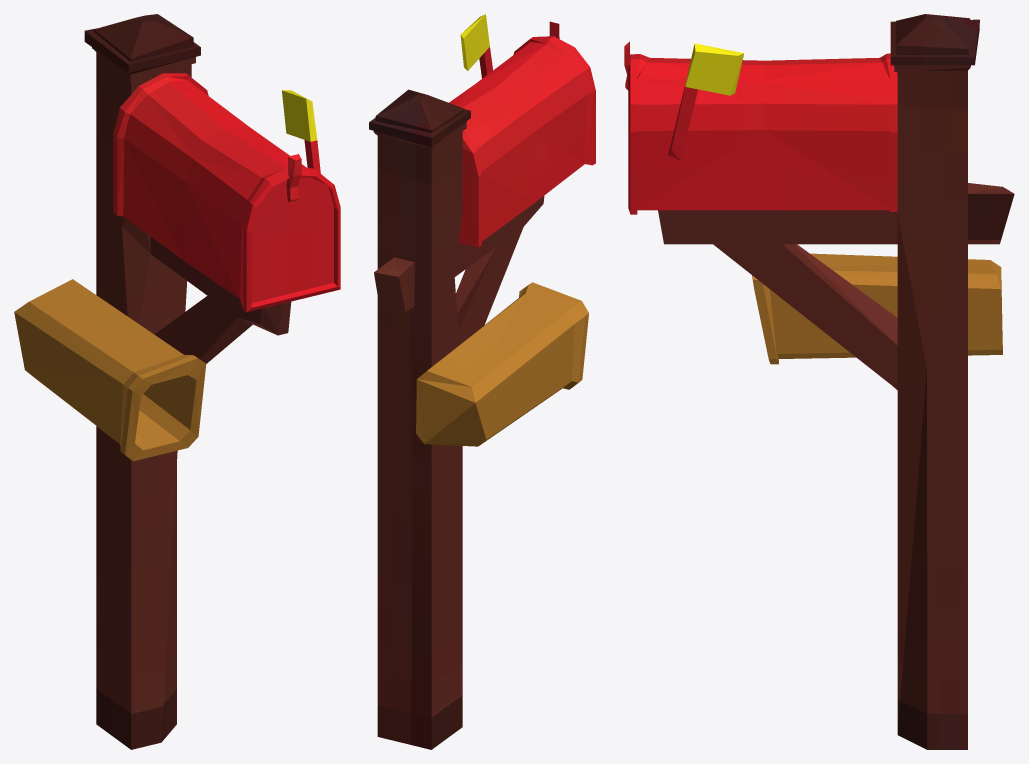
The model's file is MailBox.fbx.
3 views of the same model, side by side, from view 1: azimuth 30°, elevation 25°; view 2: azimuth 150°, elevation 25°; view 3: azimuth 270°, elevation 25° (orthographic). The views are drawn at different scales.
Visible parts, largest first — view 1: SM_MailBox_01.mo; view 2: SM_MailBox_01.mo; view 3: SM_MailBox_01.mo.
Boxes of the visible parts, x1=… form: SM_MailBox_01.mo: x1=14, y1=14, x2=340, y2=749; SM_MailBox_01.mo: x1=369, y1=14, x2=595, y2=749; SM_MailBox_01.mo: x1=624, y1=14, x2=1014, y2=749.
Size of the model in its own units: 30.6 by 137 by 67.66.
